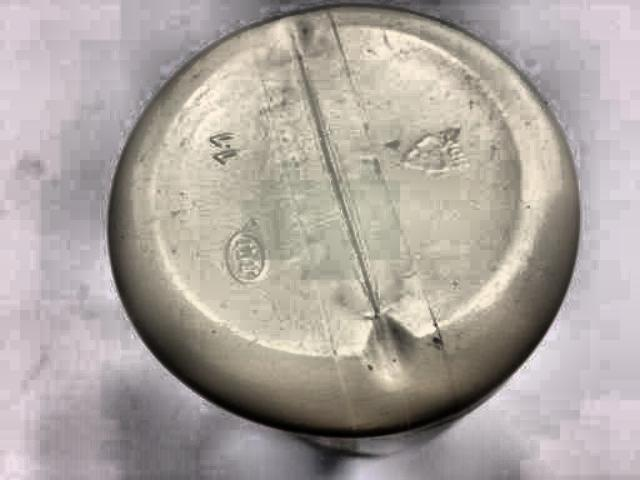Plastic: (86, 0, 586, 480)
